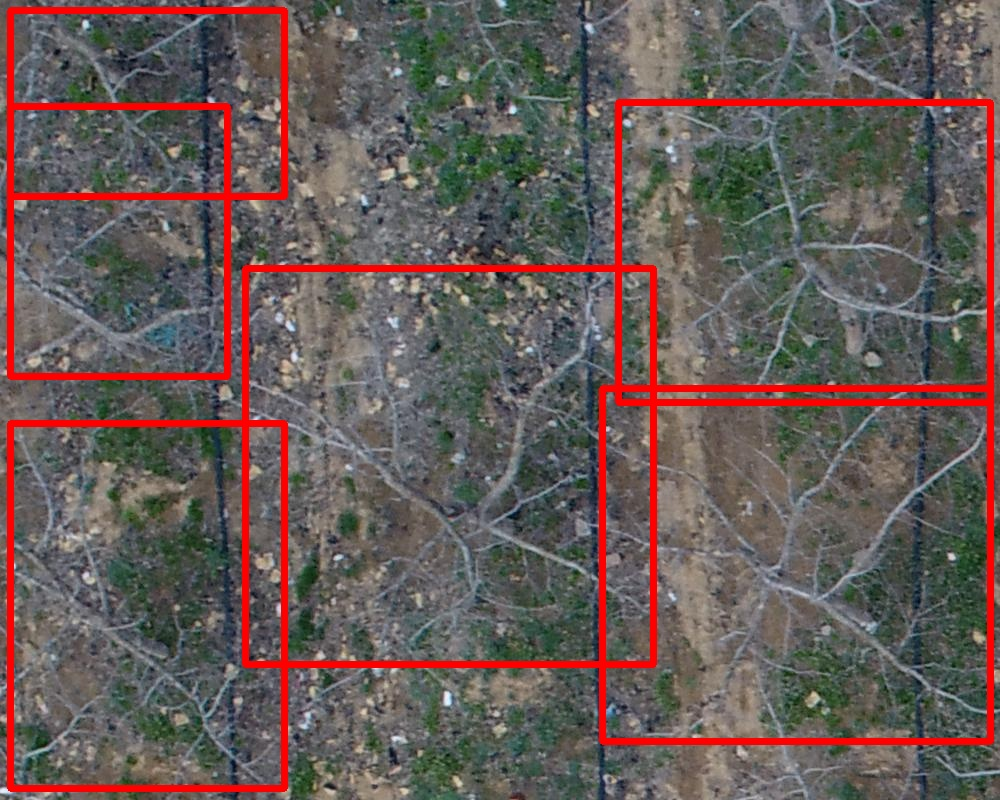apple: (245, 268, 653, 664), (602, 388, 990, 741), (618, 102, 990, 402), (10, 423, 284, 788), (10, 106, 227, 376), (10, 10, 284, 196)
